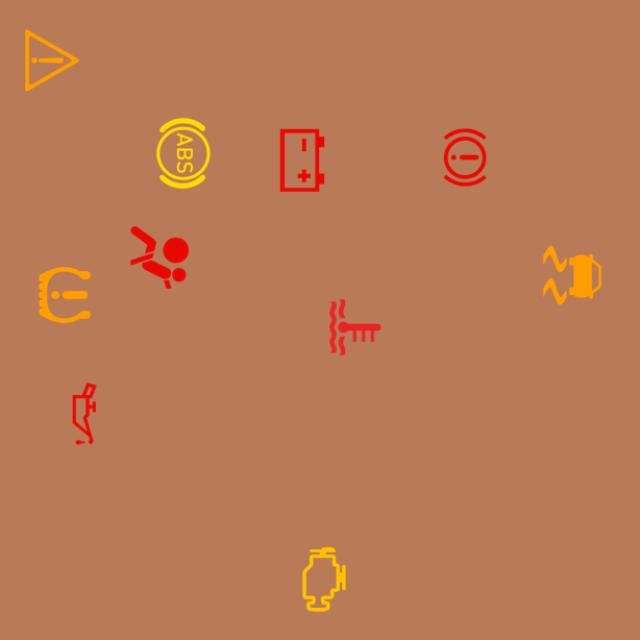Anti Lock Braking System: (145, 115, 222, 192)
Braking System Issue: (426, 119, 504, 196)
Charging System Issue: (264, 122, 341, 199)
Check Engine: (286, 541, 362, 618)
Electronic Stability Problem -ESP-: (534, 236, 610, 314)
Engine Overheating Warning Light: (317, 289, 394, 366)
Low Engine Oil Warning Light: (46, 376, 123, 452)
Low Tire Pressure Warning Light: (26, 256, 103, 334)
Master warning light: (14, 22, 90, 99)
SRS-Airbag: (121, 219, 198, 296)
